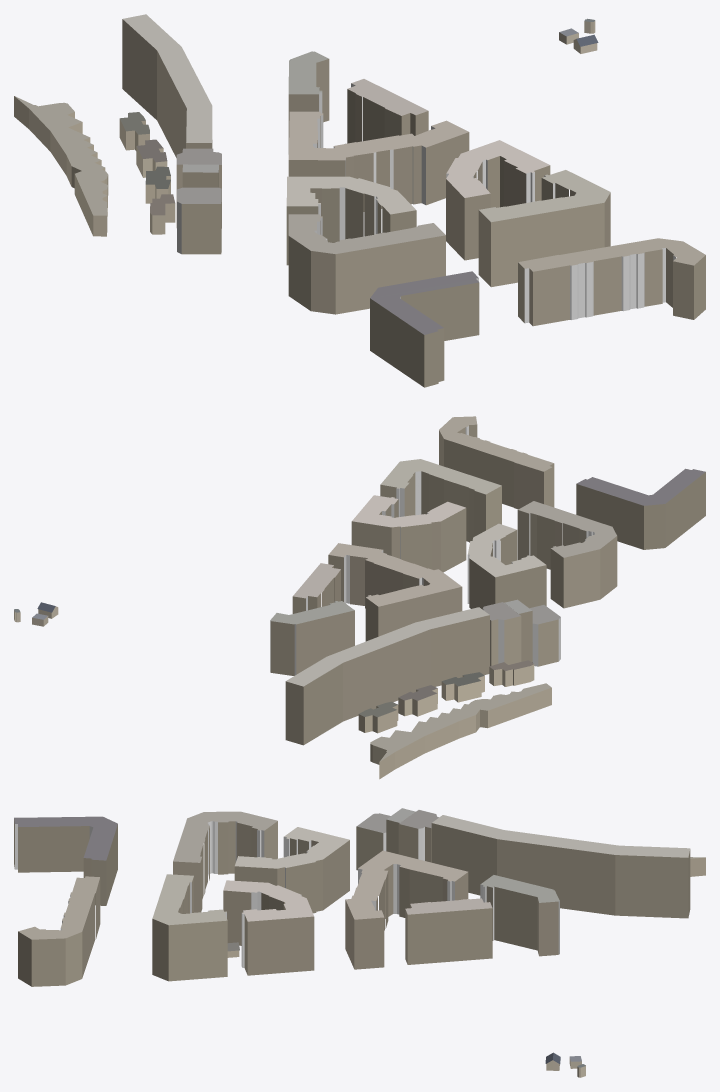
3 renders of one model, top to bottom at view 1: azimuth 30°, elevation 25°; view 2: azimuth 150°, elevation 25°; view 3: azimuth 270°, elevation 25°, orthographic. The views are drawn at different scales.
Visible parts, largest first — view 1: tuile; view 2: tuile; view 3: tuile.
Boxes of the visible parts, bbox=[...] form: tuile: bbox=[14, 14, 705, 387]; tuile: bbox=[14, 416, 705, 779]; tuile: bbox=[14, 808, 705, 1077].
Size of the model in its own units: 253 by 34.72 by 306.
